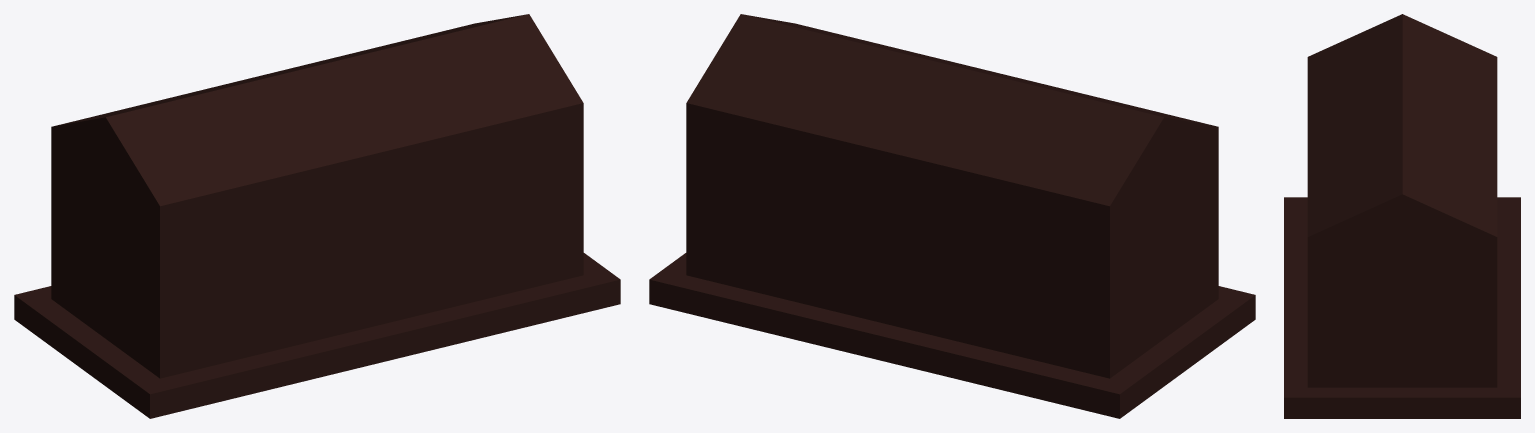
File: Stable.glb
3 views of the same model, side by side, from view 1: azimuth 30°, elevation 25°; view 2: azimuth 150°, elevation 25°; view 3: azimuth 270°, elevation 25° (orthographic). The views are drawn at different scales.
Visible parts, largest first — view 1: 2Stable; view 2: 2Stable; view 3: 2Stable.
Part boxes in pixels (x1,y1,x2,y2): 2Stable: [14, 14, 620, 418]; 2Stable: [649, 14, 1255, 418]; 2Stable: [1284, 14, 1520, 418].
Bounding box in the file's own units: 2 × 1 × 1.
